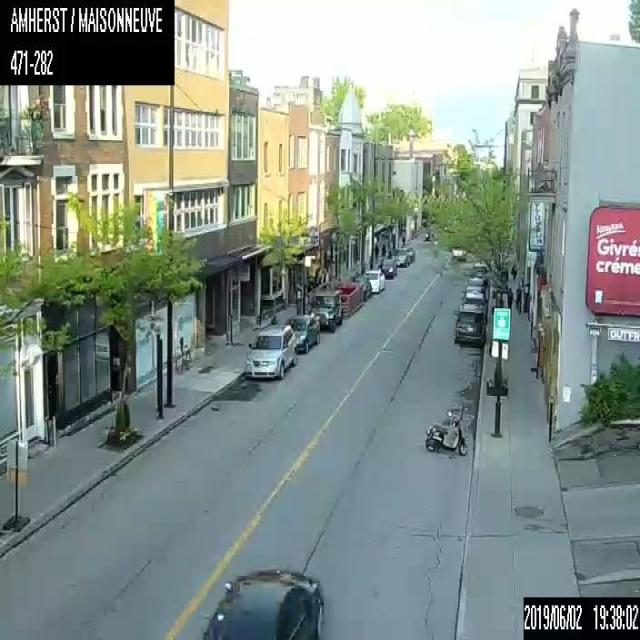pedestrian: (515, 283, 521, 313), (510, 261, 517, 279), (508, 287, 513, 308), (374, 242, 378, 263), (381, 243, 385, 260)
vehicle: (202, 565, 324, 639), (245, 324, 296, 378), (424, 416, 467, 455), (306, 288, 342, 330), (453, 303, 486, 344), (284, 314, 320, 351), (462, 290, 488, 312), (361, 269, 384, 292), (465, 276, 486, 298), (391, 246, 410, 266), (471, 260, 488, 282), (377, 258, 396, 276), (400, 242, 414, 264)
